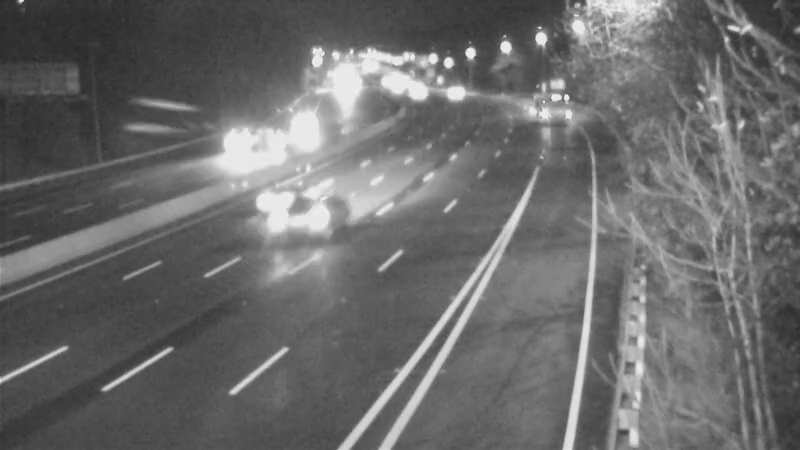vehicle: (238, 158, 318, 238), (263, 175, 343, 255), (433, 67, 483, 117), (394, 72, 444, 122), (531, 83, 581, 133), (210, 122, 260, 172), (241, 119, 291, 169), (281, 97, 331, 147)
